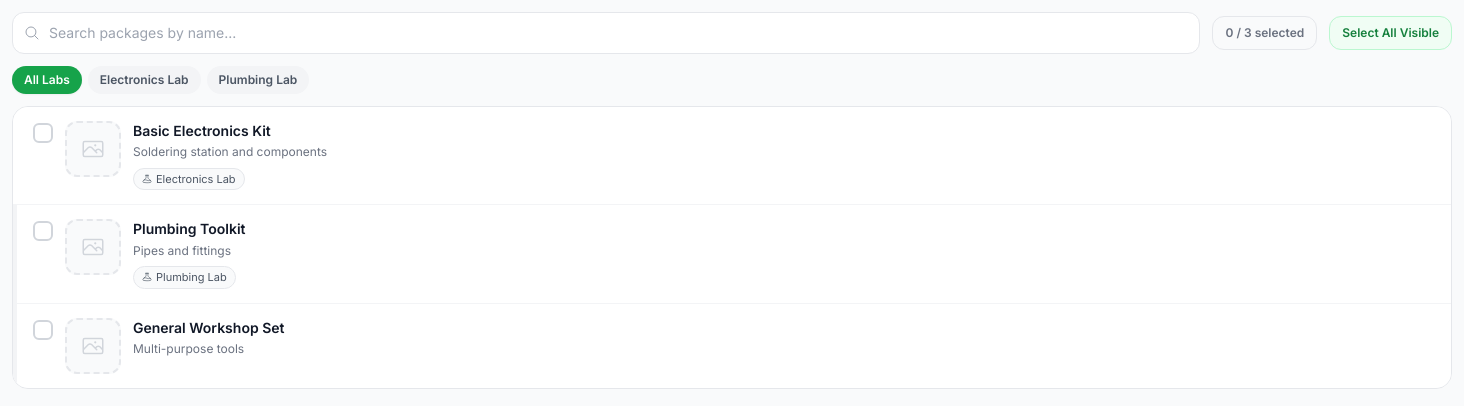
Test: PackageSelector Component › Search › filters packages by name
The image size is (1464, 406).
Step 1. Type "Plumbing" into the field with placeholder "Search packages by name..." → (606, 33), box [12,12,1200,54]
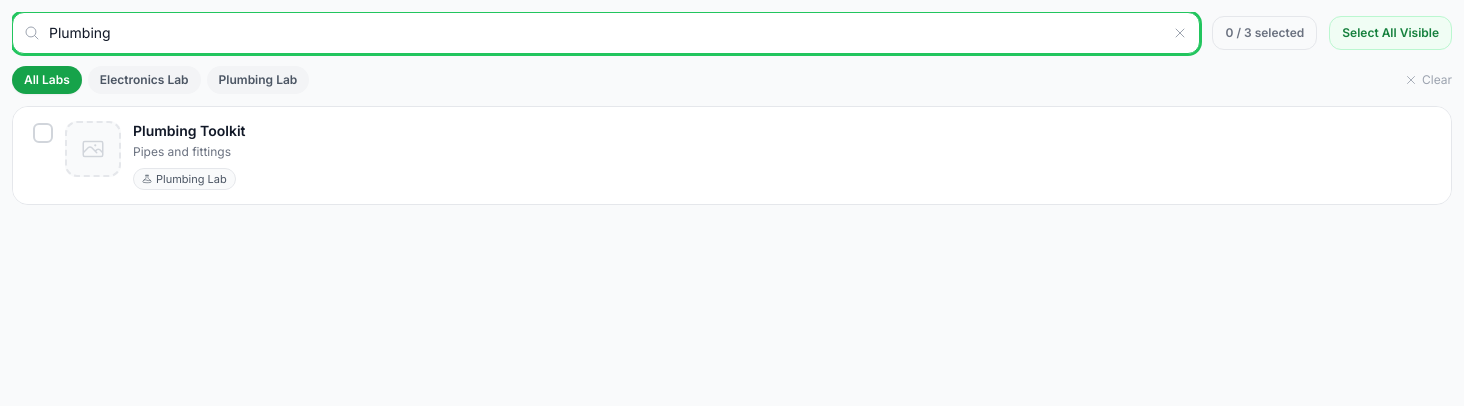
Expected: the text "Plumbing Toolkit" is shown, [133,121,246,140]
Result: the text "Basic Electronics Kit" is gone
